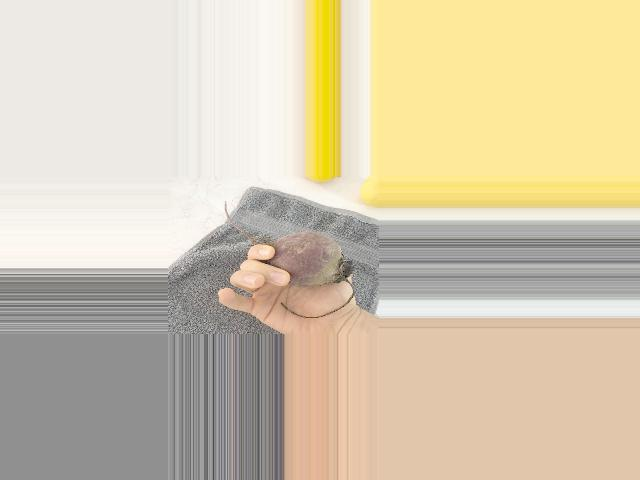beet: (224, 201, 353, 318)
